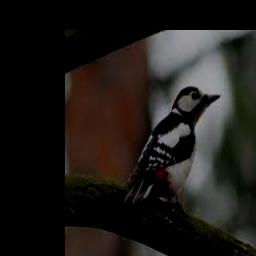Woodpecker: (123, 87, 222, 214)
